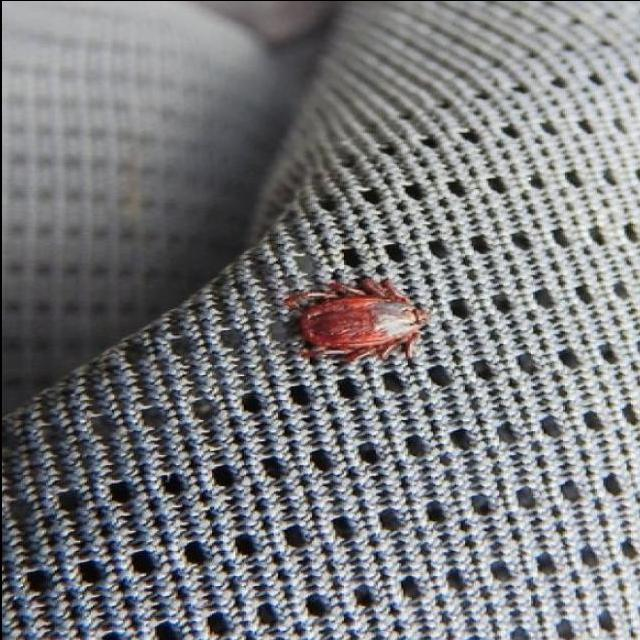Rhipicephalus Sanguineus-F: (282, 274, 427, 368)
